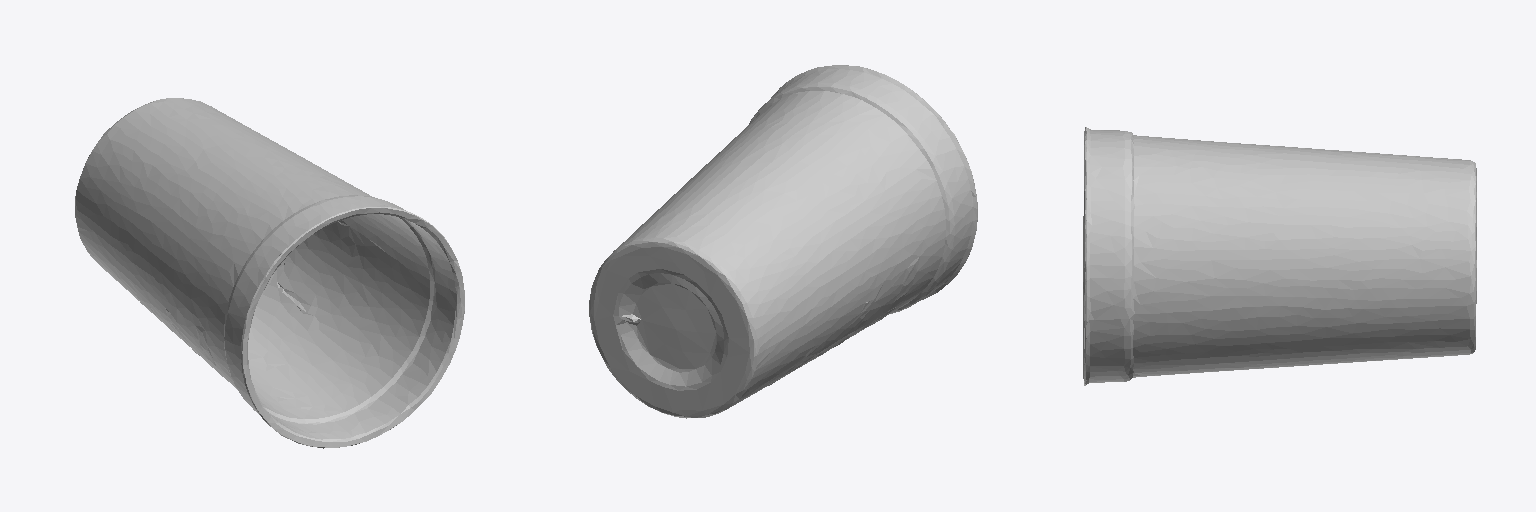
3 views of the same model, side by side, from view 1: azimuth 30°, elevation 25°; view 2: azimuth 150°, elevation 25°; view 3: azimuth 270°, elevation 25° (orthographic).
Visible parts, largest first — view 1: cup; view 2: cup; view 3: cup.
Part boxes in pixels (x1,y1,x2,y2): cup: (75, 98, 464, 448); cup: (589, 65, 977, 418); cup: (1083, 127, 1476, 385).
Size of the model in its own units: 0.0911 by 0.0911 by 0.1383.